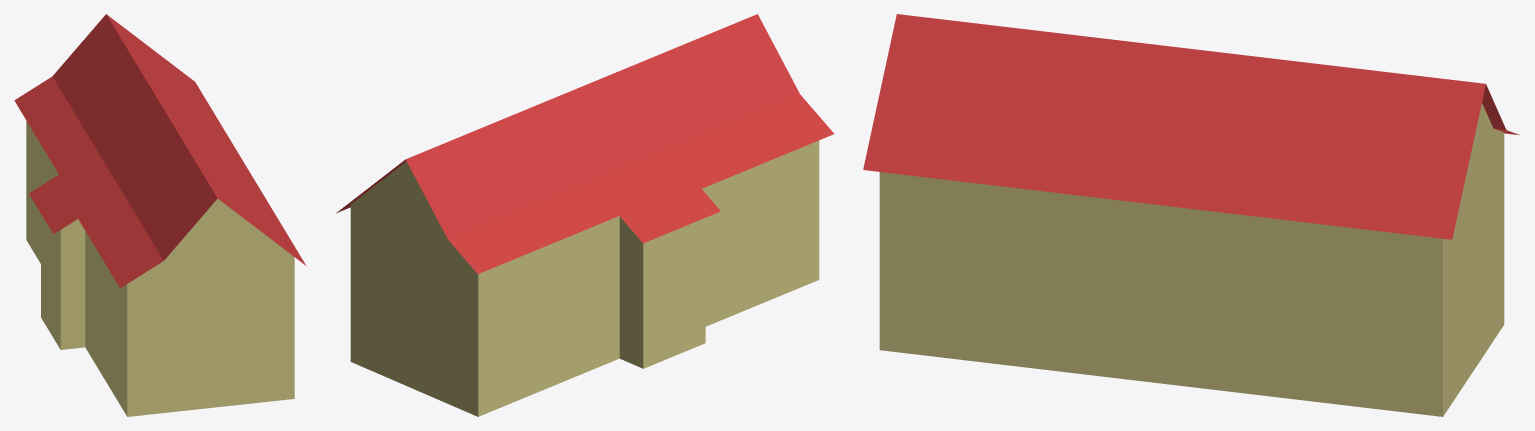
3 renders of one model, left to right at view 1: azimuth 30°, elevation 25°; view 2: azimuth 150°, elevation 25°; view 3: azimuth 270°, elevation 25°, orthographic. The views are drawn at different scales.
Size of the model in its own units: 15.5 by 24.44 by 11.87.
